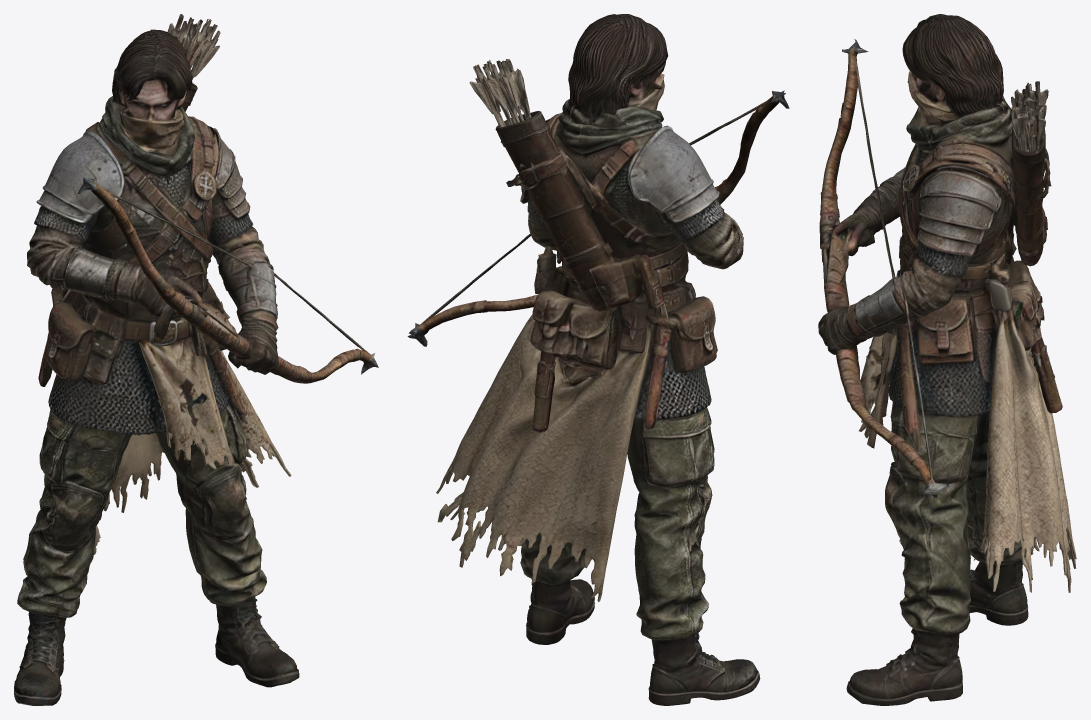
File: goon-bow.glb
3 renders of one model, left to right at view 1: azimuth 30°, elevation 25°; view 2: azimuth 150°, elevation 25°; view 3: azimuth 270°, elevation 25°, orthographic.
Parts seen in each view (by area): view 1: tripo_node_5d888dea-188b-46b3-bb4c-63c79fedf028; view 2: tripo_node_5d888dea-188b-46b3-bb4c-63c79fedf028; view 3: tripo_node_5d888dea-188b-46b3-bb4c-63c79fedf028.
Part boxes in pixels (x1=…): tripo_node_5d888dea-188b-46b3-bb4c-63c79fedf028: x1=14, y1=14, x2=378, y2=705; tripo_node_5d888dea-188b-46b3-bb4c-63c79fedf028: x1=407, y1=14, x2=789, y2=705; tripo_node_5d888dea-188b-46b3-bb4c-63c79fedf028: x1=818, y1=14, x2=1076, y2=705.
Size of the model in its own units: 0.5642 by 0.9784 by 0.3579.
Materials: 1 (1 with a texture image).
